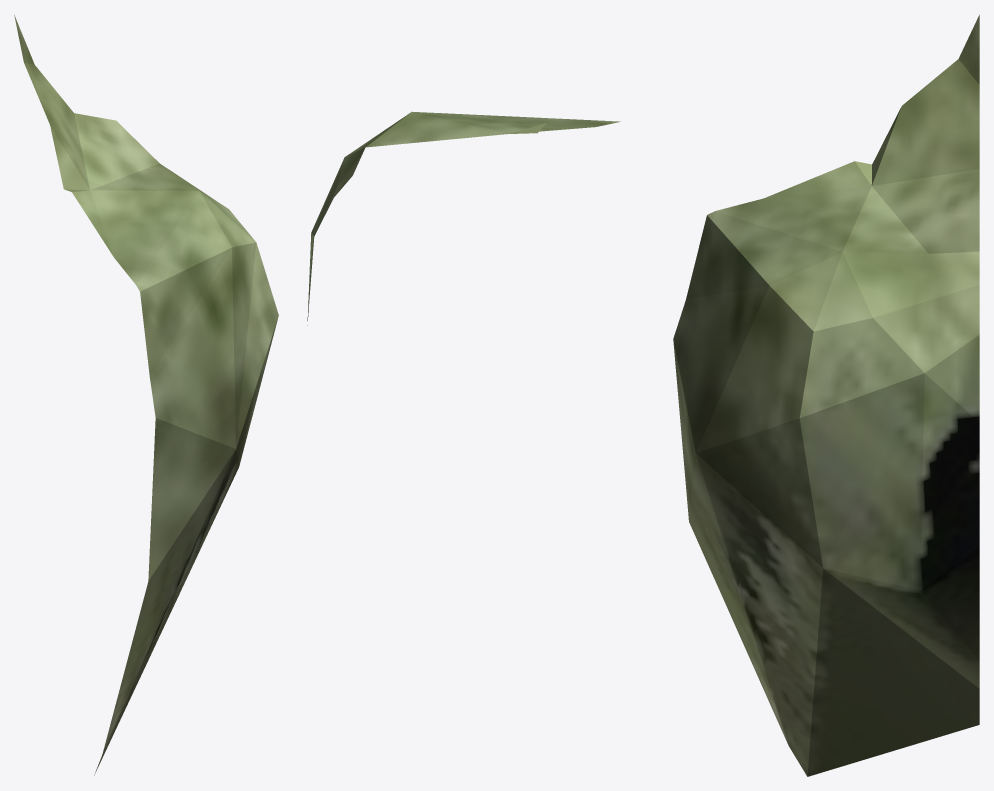
3 views of the same model, side by side, from view 1: azimuth 30°, elevation 25°; view 2: azimuth 150°, elevation 25°; view 3: azimuth 270°, elevation 25° (orthographic). The views are drawn at different scales.
Size of the model in its own units: 0.3058 by 1.13 by 0.4128.
1 material, 1 textured.
